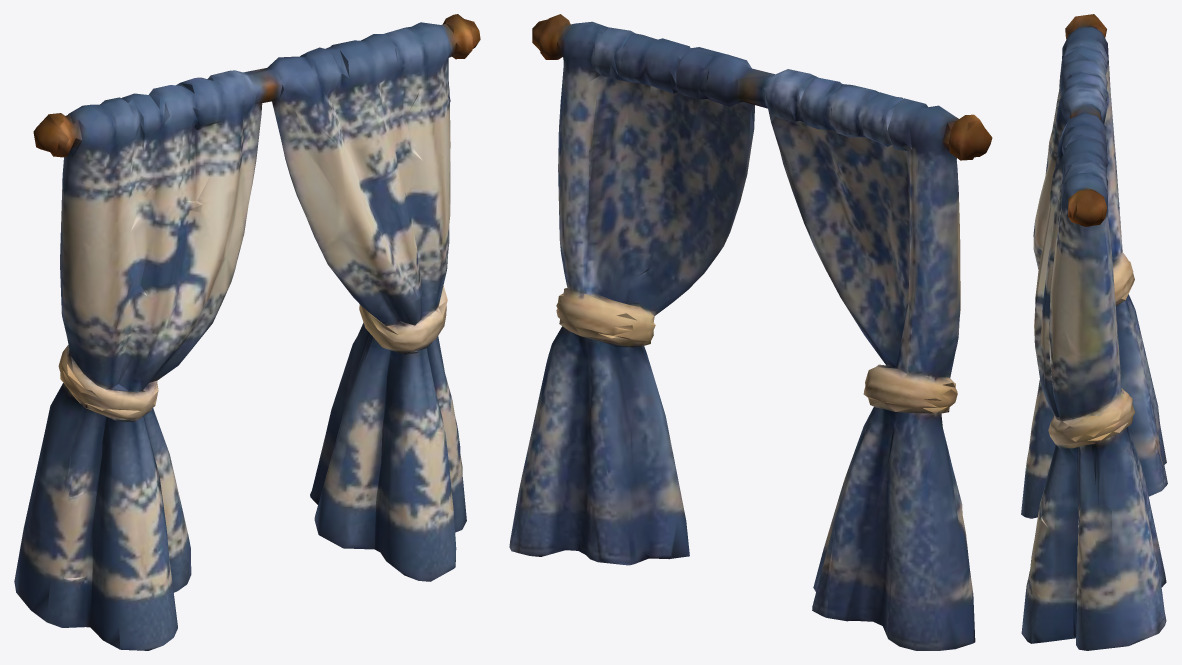
The model's file is curtain06.glb.
The picture shows the model from 3 angles, left to right: view 1: azimuth 30°, elevation 25°; view 2: azimuth 150°, elevation 25°; view 3: azimuth 270°, elevation 25°; orthographic projection. The views are drawn at different scales.
Bounding box in the file's own units: 0.2389 × 0.2727 × 0.0766.
Materials: 1 (1 with a texture image).
